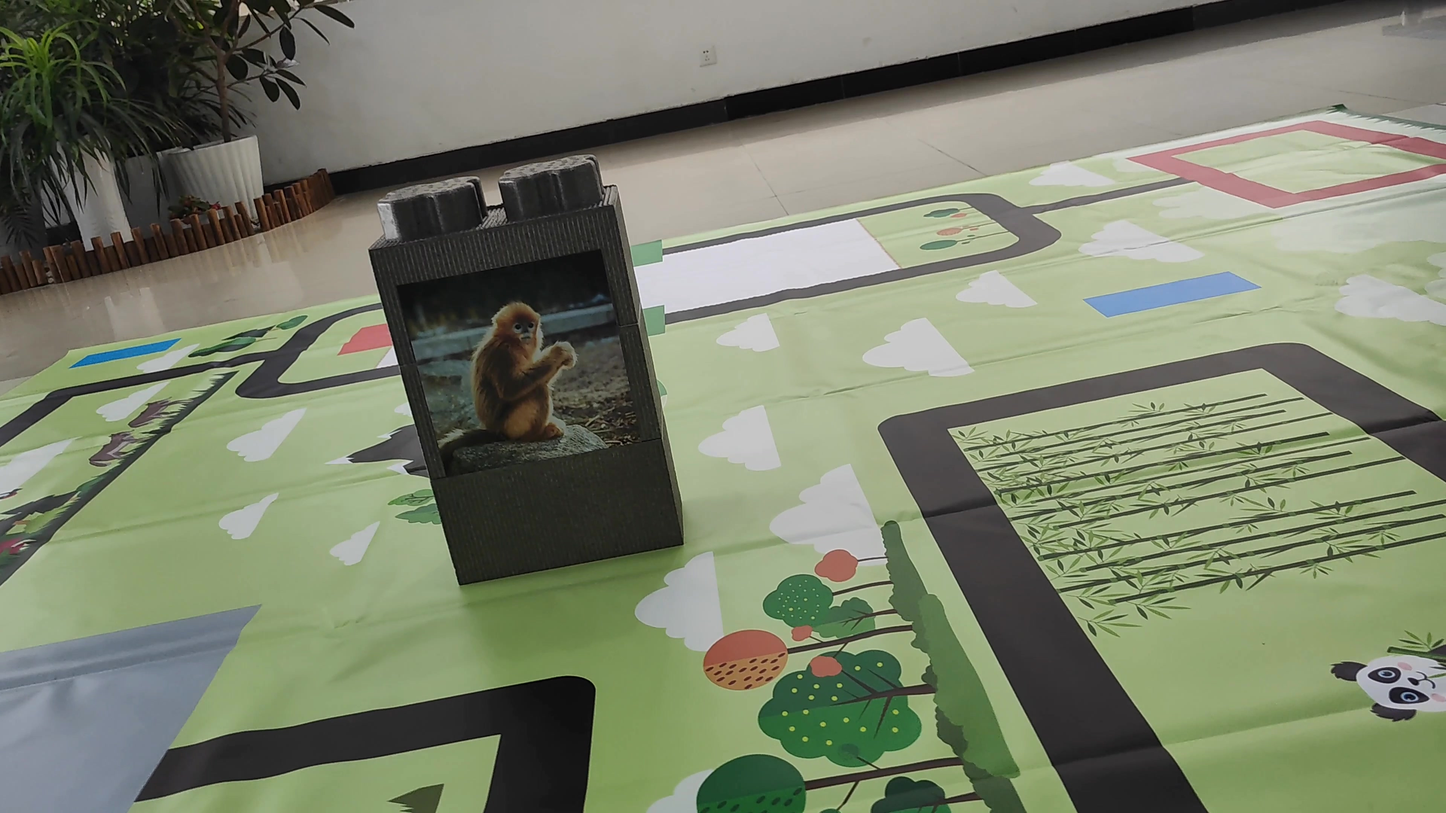monkey: (408, 260, 631, 473)
